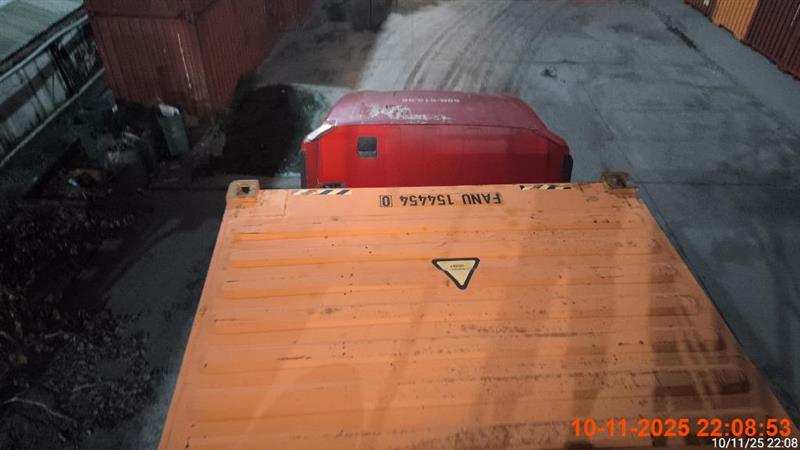hole: (300, 89, 573, 188)
